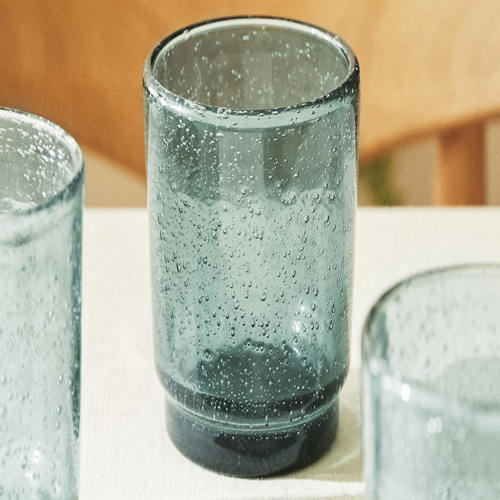vaso: (143, 19, 350, 479)
